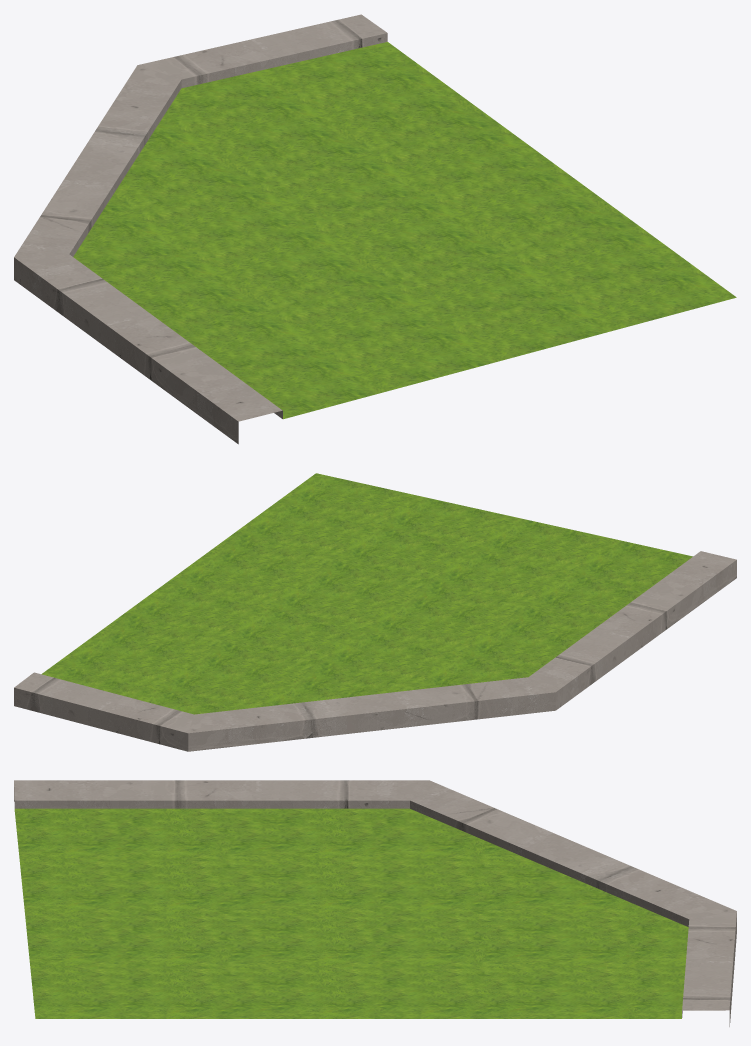
Rendered from GrassTile_E.fbx.
The picture shows the model from 3 angles, top to bottom: view 1: azimuth 30°, elevation 25°; view 2: azimuth 150°, elevation 25°; view 3: azimuth 270°, elevation 25°; orthographic projection. The views are drawn at different scales.
Visible parts, largest first — view 1: GrassTile_E; view 2: GrassTile_E; view 3: GrassTile_E.
Part boxes in pixels (x1=…): GrassTile_E: x1=14, y1=14, x2=736, y2=444; GrassTile_E: x1=14, y1=473, x2=736, y2=751; GrassTile_E: x1=14, y1=780, x2=736, y2=1026.
Bounding box in the file's own units: 794 × 33.99 × 1053.
2 materials, 2 textured.
